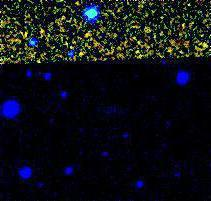star: (69, 40, 99, 70)
